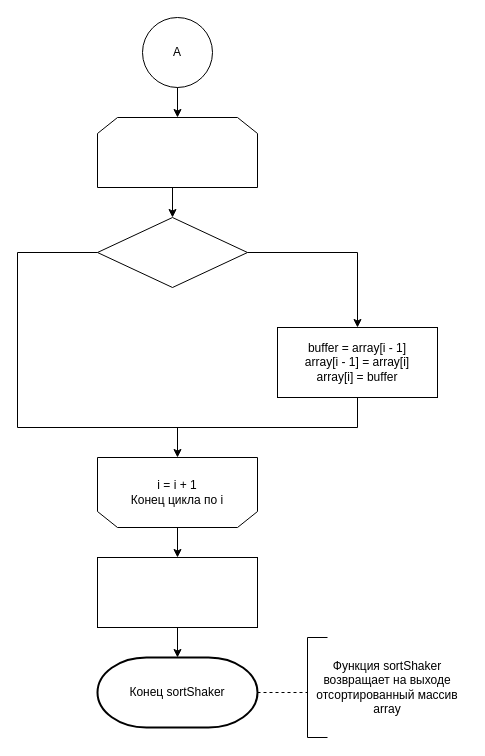
Image size: 485x756. Some labels were removed from this diagram. The shapes that lost their labels are listed below. From the top down, each one's centre as x and y in pixels, then its label:
point 177,152: i = left ... right
point 172,252: array[i - 1] > array[i]
point 177,592: right = right - 1
